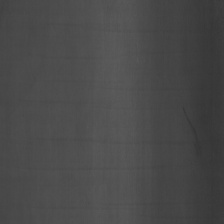water_spot: (177, 101, 207, 165)
